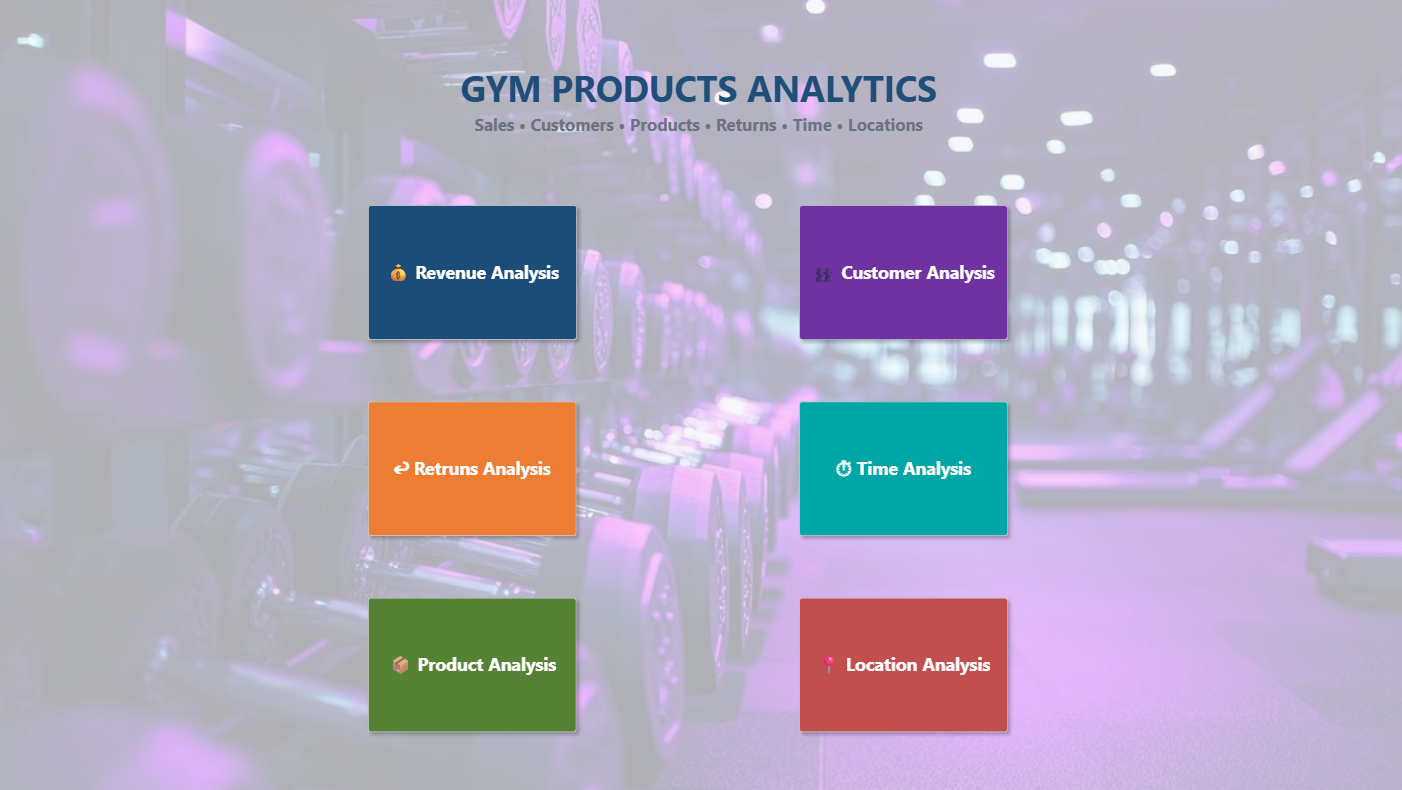

The dashboard page shown, as its layout file describes it:
{"tool":"powerbi","page":{"name":"🏠 Overview","canvas":[1920,1080],"ordinal":0},"visuals":[{"type":"textbox","title":"GYM PRODUCTS ANALYTICS","box":[70.6,90.5,1775.3,110.4],"z":0},{"type":"actionButton","box":[502.6,273.3,300.8,199.9],"z":1000},{"type":"actionButton","box":[1085.9,273.3,300,200],"z":2000},{"type":"actionButton","box":[502.6,539.3,300,200],"z":3000},{"type":"actionButton","box":[1085.9,539.3,300,200],"z":4000},{"type":"actionButton","box":[502.6,805.2,300,200],"z":5000},{"type":"actionButton","box":[1085.9,805.2,300,200],"z":6000}]}

Visuals, with their boxes in screenshot pixels (x1, y1, x2, y2), scaled from the page's 1920x1080 canvas onto the 1402x790 screenshot:
"GYM PRODUCTS ANALYTICS" textbox: <box>52,66,1348,147</box>
actionButton: <box>367,200,587,346</box>
actionButton: <box>793,200,1012,346</box>
actionButton: <box>367,394,586,541</box>
actionButton: <box>793,394,1012,541</box>
actionButton: <box>367,589,586,735</box>
actionButton: <box>793,589,1012,735</box>
